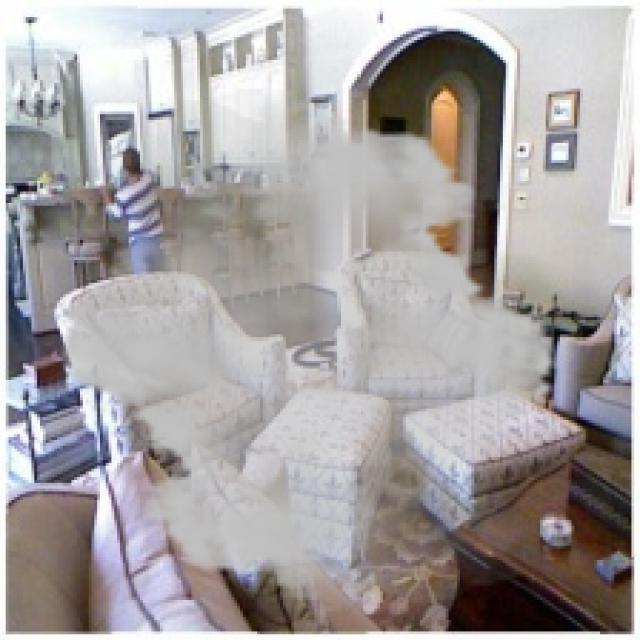Smoke: (40, 88, 577, 614)
